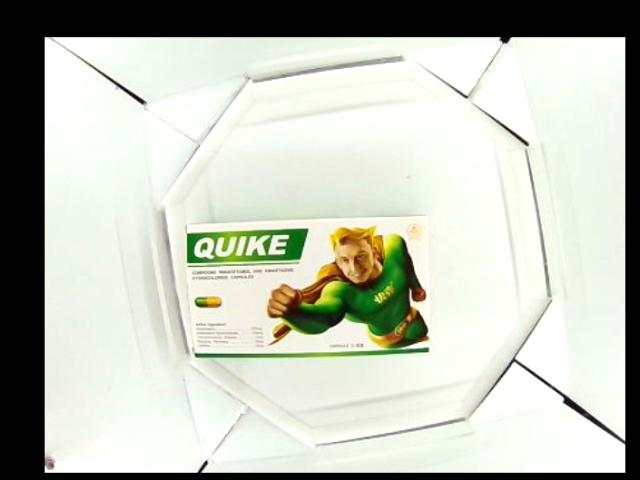Medicine: (185, 215, 431, 365)
